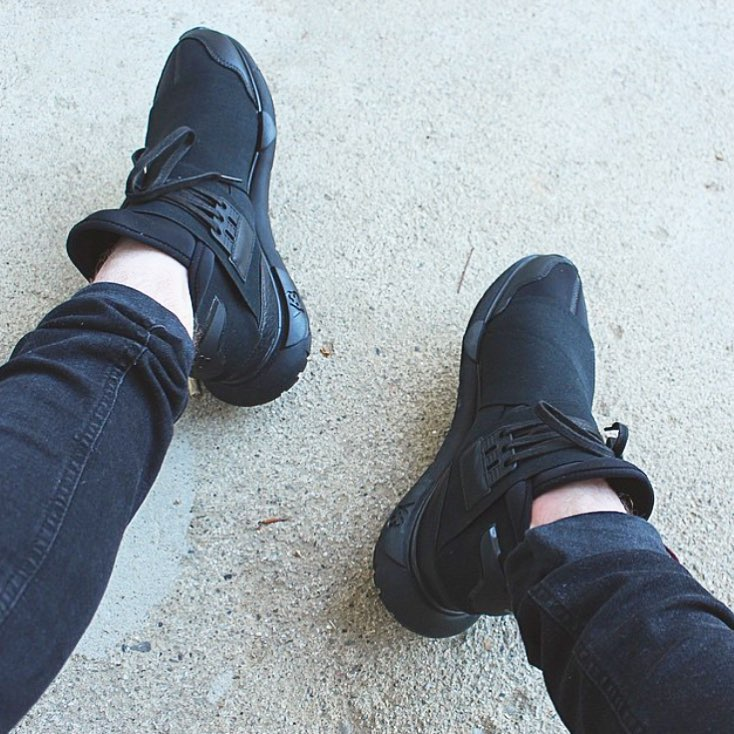sneaker: (355, 233, 672, 652), (55, 15, 333, 426)
